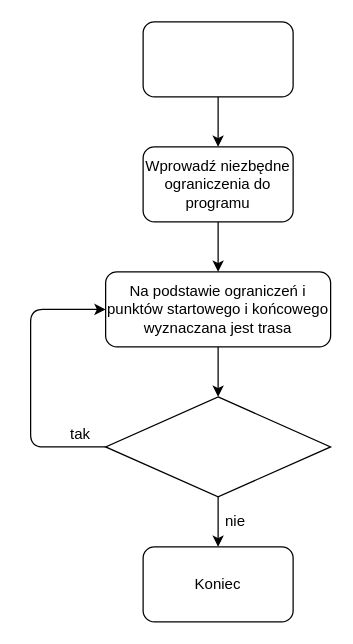
The diagram is 353 pixels wide and 644 high, and some of its shapes have lost their labels. The centre of each missing label's shape, as x and y in pixels:
"Czy chcesz dodać korek?" belongs at (x=217, y=446).
"Wybierz punkt startowy i końcowy" belongs at (x=217, y=59).
